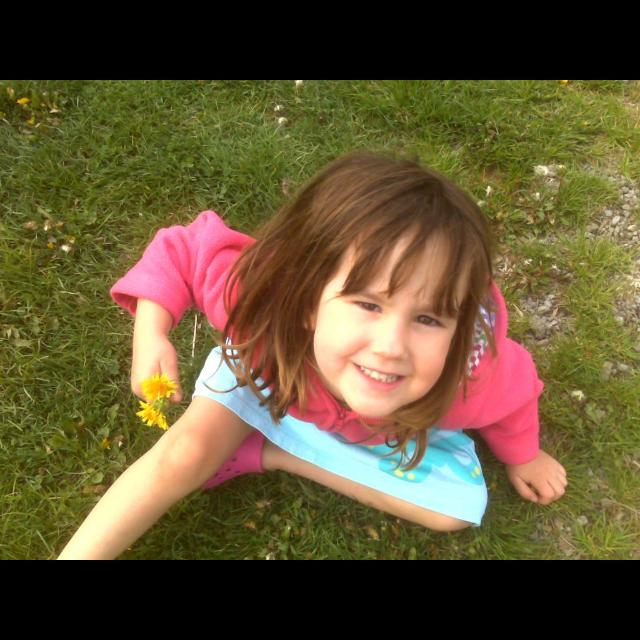Flower: (134, 398, 172, 432), (142, 372, 174, 404), (14, 96, 34, 104)
